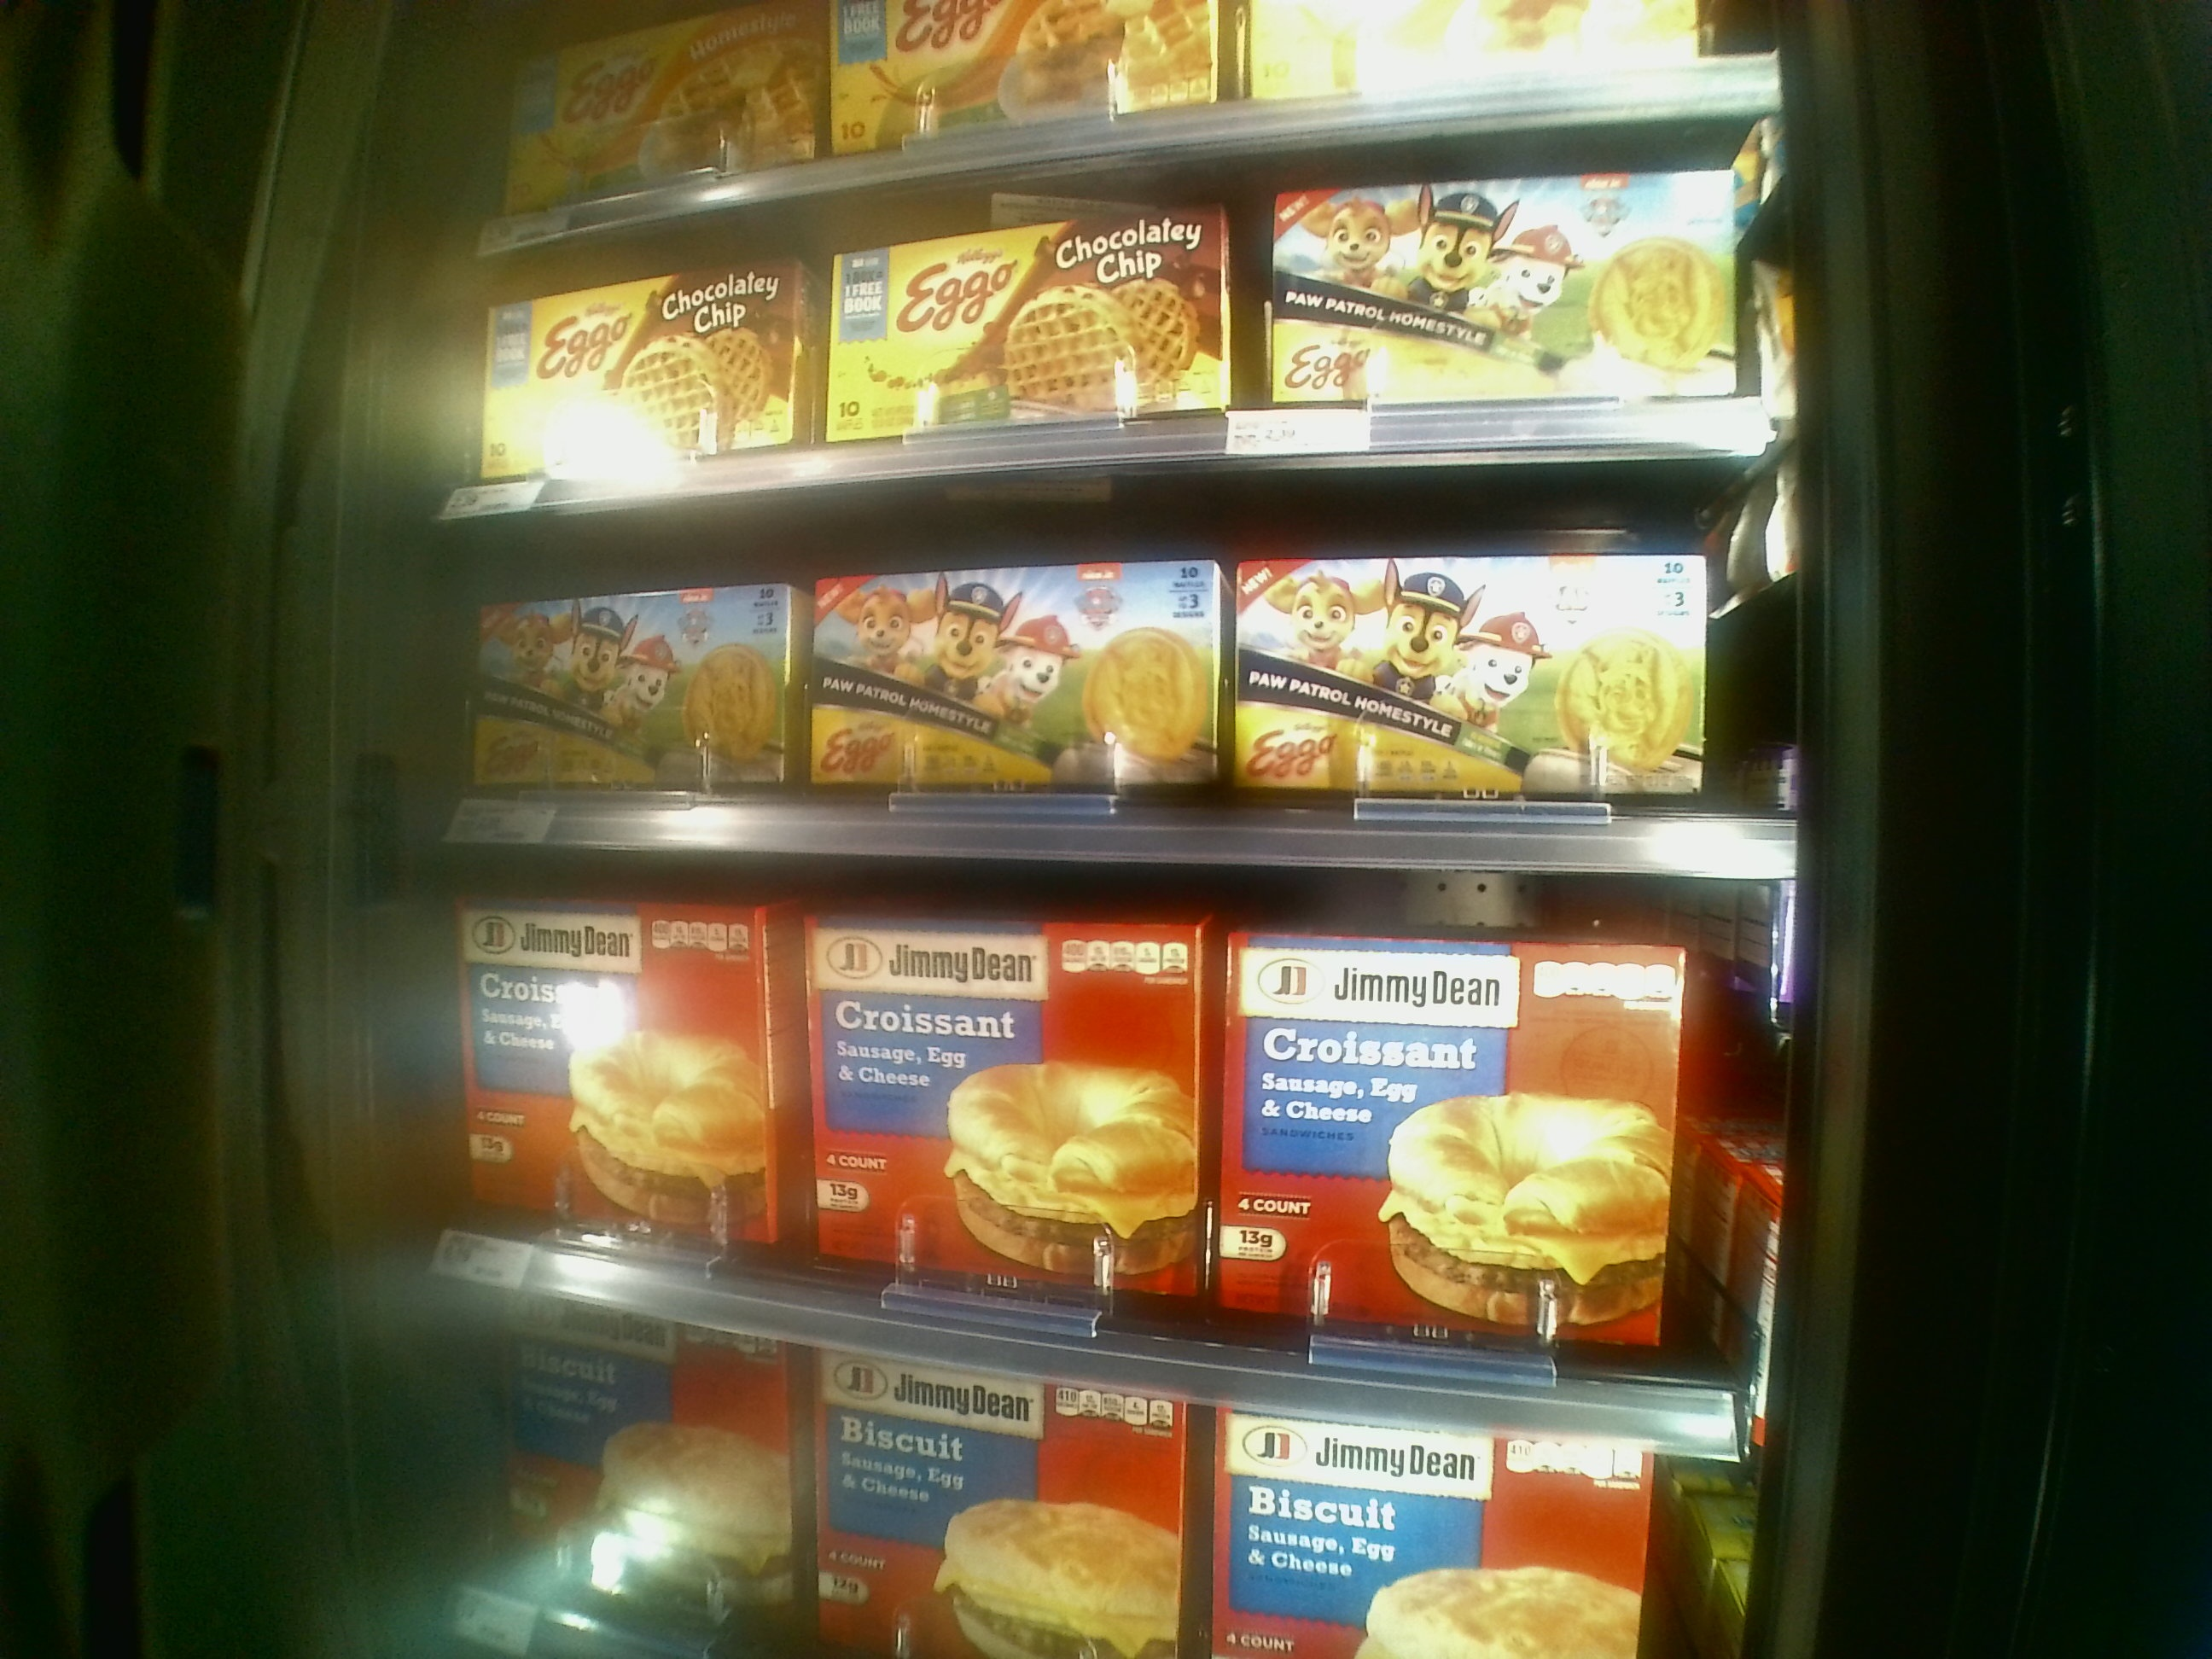shelf: (448, 836, 1768, 1457), (472, 106, 1780, 507), (442, 477, 1791, 863)
